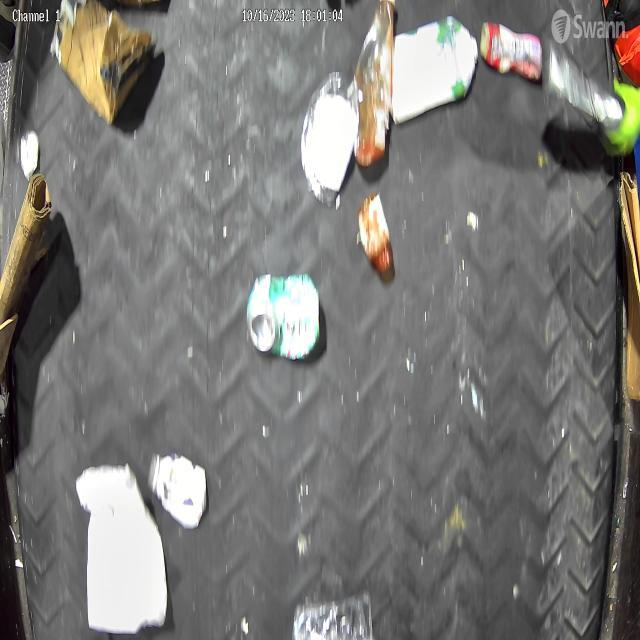can: (248, 272, 320, 360)
milk_jug: (74, 463, 168, 634), (392, 16, 478, 125)
